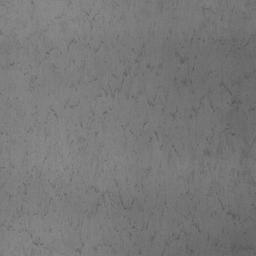Silk spot: (0, 0, 256, 256), (55, 0, 136, 32), (91, 145, 117, 176), (0, 87, 25, 115), (146, 0, 178, 19)
